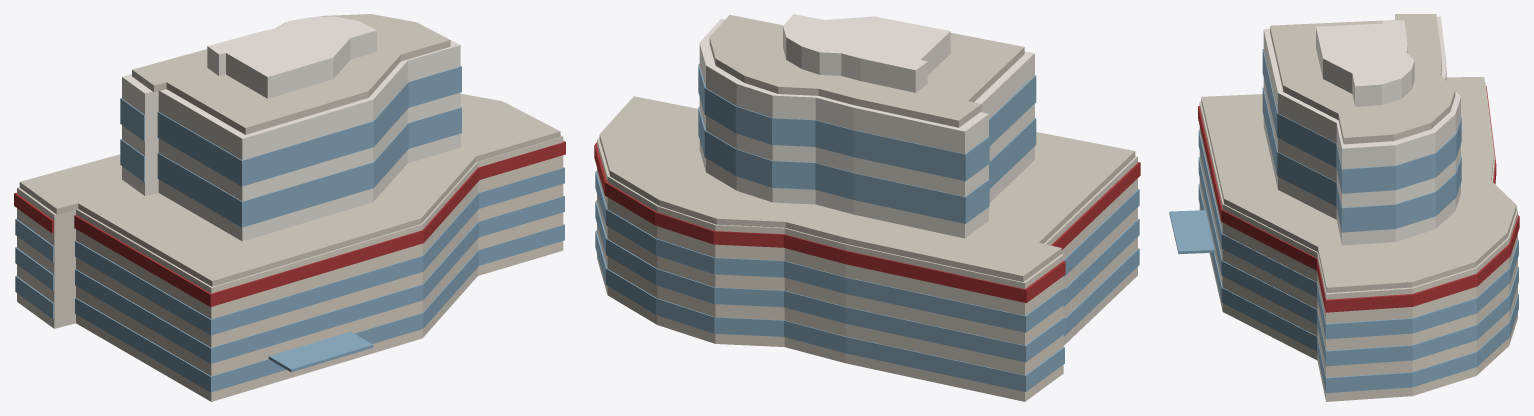
File: hledan_center.glb
3 renders of one model, left to right at view 1: azimuth 30°, elevation 25°; view 2: azimuth 150°, elevation 25°; view 3: azimuth 270°, elevation 25°, orthographic. The views are drawn at different scales.
Parts seen in each view (by area): view 1: part; view 2: part; view 3: part.
Part boxes in pixels (box(x1,y1,x2,y2)): part: box(14, 14, 565, 401); part: box(594, 14, 1140, 401); part: box(1169, 14, 1519, 401).
Bounding box in the file's own units: 2806639 × 1441907 × 1931508.
